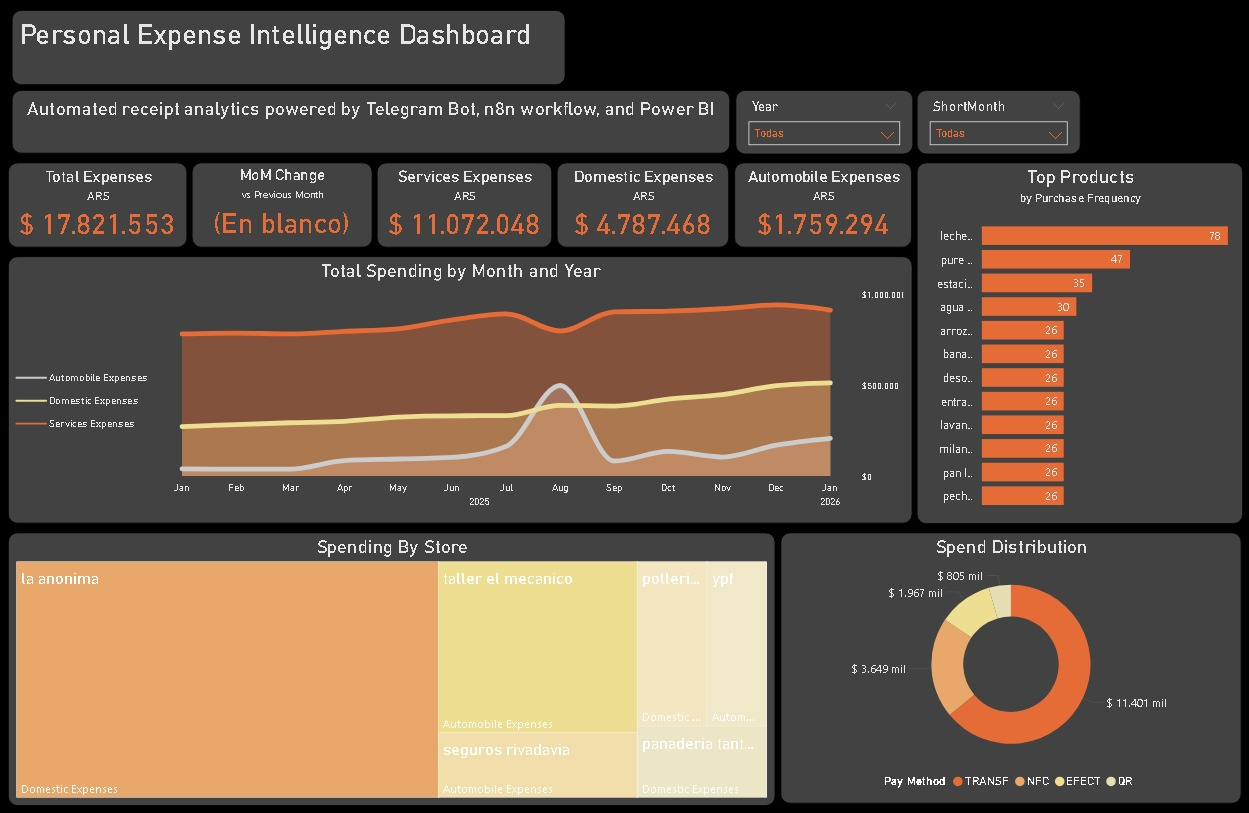

What the dashboard file says about the page in this screenshot:
{"tool":"powerbi","page":{"name":"Dashboard","canvas":[1280,780],"ordinal":0},"visuals":[{"type":"lineChart","title":"Total Spending","fields":{"Y":["DAX.Automobile Expenses","DAX.Domestic Expenses","DAX.Services Expenses"],"Category":["Dim_Date.Date.Variación.Jerarquía de fechas.Año","Dim_Date.ShortMonth"]},"box":[13.4,199,904.3,279.2],"z":0},{"type":"treemap","title":"Spending","fields":{"Values":["DAX.Domestic Expenses","DAX.Automobile Expenses"],"Group":["Dim_Store.Store"]},"box":[488.5,487.8,782.6,286.6],"z":1000},{"type":"card","title":"Total Expenses","fields":{"Values":["DAX.Total Gasto"]},"box":[332.5,100.6,187.1,89.1],"z":2000},{"type":"card","title":"Services Expenses","fields":{"Values":["DAX.Total Services Expenses"]},"box":[716,100.4,182.9,88.9],"z":3000},{"type":"card","title":"Domestic Expenses","fields":{"Values":["DAX.Total Home Expenses"]},"box":[902.7,100.6,181.2,89.1],"z":4000},{"type":"card","title":"Automobile Expenses","fields":{"Values":["DAX.Automobile Expenses"]},"box":[1085.9,103.9,184.1,89.1],"z":5000},{"type":"donutChart","title":"Spend Distribution ","fields":{"Category":["Dim_PayMethod.Id_PayMethod"],"Y":["DAX.Total"]},"box":[13.4,489.3,464.8,283.6],"z":6000},{"type":"clusteredBarChart","title":"Top Products","fields":{"Category":["Dim_Product.Product"],"Y":["DAX.Total Units"]},"box":[929.6,199,340,279.2],"z":7000},{"type":"slicer","fields":{"Values":["Dim_Date.Year"]},"box":[12.8,100.6,147,89.1],"z":8000},{"type":"slicer","title":"Filter","fields":{"Values":["Dim_Date.ShortMonth"]},"box":[163.7,100.6,164.8,89.1],"z":9000},{"type":"card","title":"MoM Change","fields":{"Values":["DAX.Total Spend MoM %"]},"box":[523.5,100.6,188.6,89.1],"z":10000},{"type":"textbox","box":[0,0,570.2,56.4],"z":11000},{"type":"textbox","box":[0,59.1,639.5,36.8],"z":12000}]}

Visuals, with their boxes on the page's 1280x780 design canvas (x1, y1, x2, y2). These are canvas units, not pixel positions in the 1249x813 screenshot, which may show the page scaled, cropped or inside an application window:
"Total Spending" lineChart: <box>13,199,918,478</box>
"Spending" treemap: <box>488,488,1271,774</box>
"Total Expenses" card: <box>332,101,520,190</box>
"Services Expenses" card: <box>716,100,899,189</box>
"Domestic Expenses" card: <box>903,101,1084,190</box>
"Automobile Expenses" card: <box>1086,104,1270,193</box>
"Spend Distribution " donutChart: <box>13,489,478,773</box>
"Top Products" clusteredBarChart: <box>930,199,1270,478</box>
slicer - Dim_Date.Year: <box>13,101,160,190</box>
"Filter" slicer: <box>164,101,328,190</box>
"MoM Change" card: <box>524,101,712,190</box>
textbox: <box>0,0,570,56</box>
textbox: <box>0,59,640,96</box>
